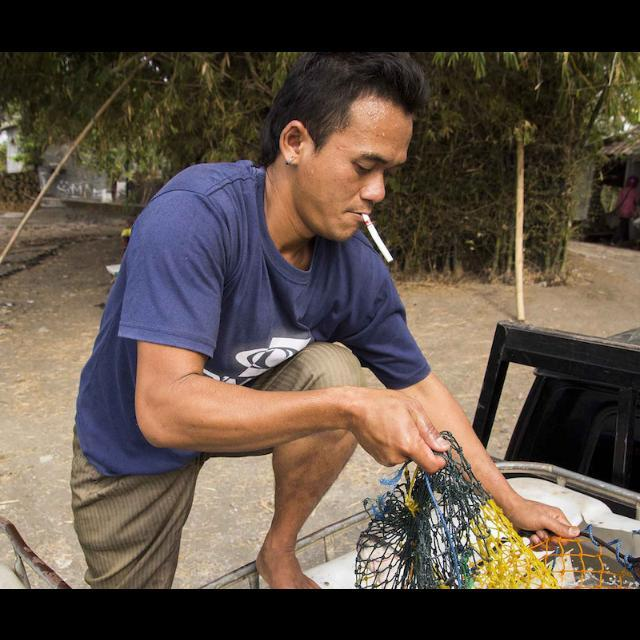rokok: (358, 212, 398, 264)
